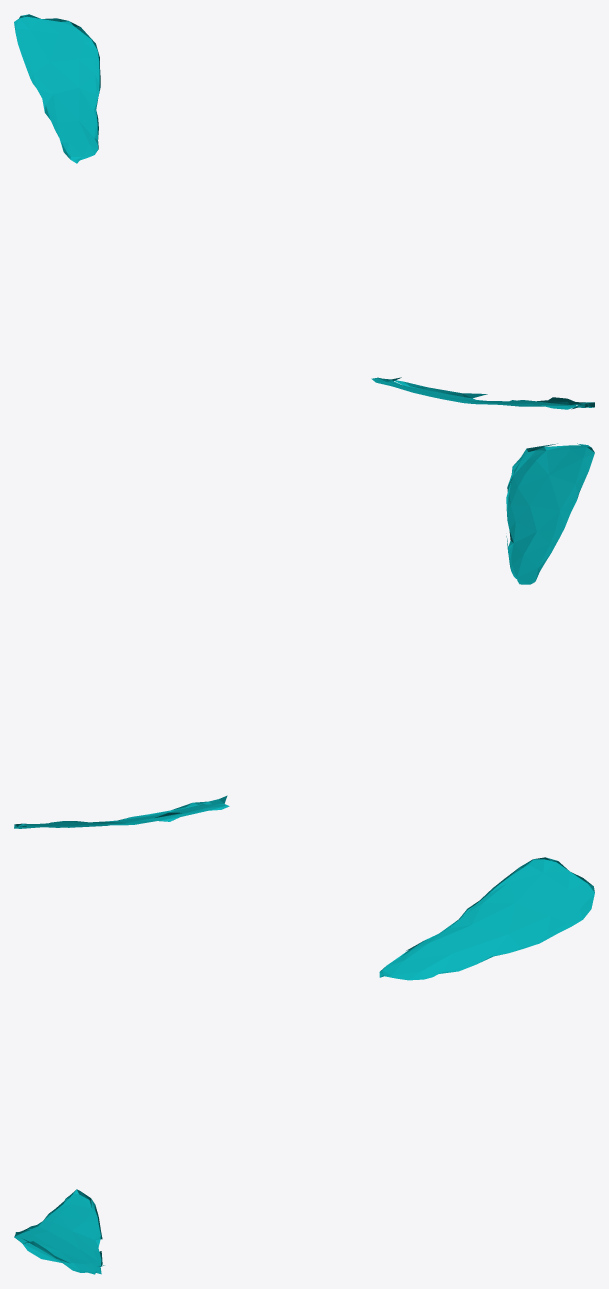
3 views of the same model, one above another, from view 1: azimuth 30°, elevation 25°; view 2: azimuth 150°, elevation 25°; view 3: azimuth 330°, elevation 25° (orthographic).
Parts seen in each view (by area): view 1: 312782570.obj; view 2: 312782570.obj; view 3: 312782570.obj.
Part boxes in pixels (x1,y1,x2,y2): 312782570.obj: [14, 14, 594, 409]; 312782570.obj: [14, 443, 594, 828]; 312782570.obj: [14, 857, 594, 1274].
Bounding box in the file's own units: 606 × 273 × 4685.
